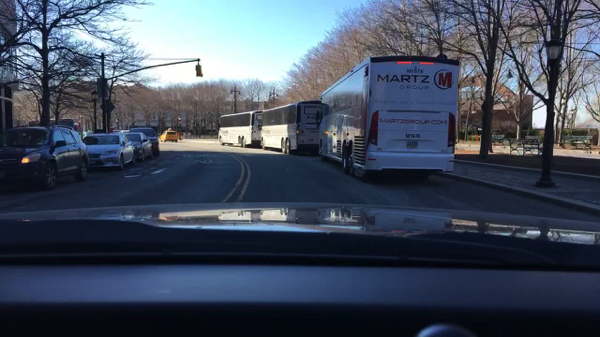bus: (315, 54, 459, 178), (258, 101, 318, 154), (217, 110, 260, 148), (28, 119, 77, 134)
car: (0, 124, 90, 190), (81, 133, 136, 173), (129, 128, 159, 156), (128, 132, 148, 161), (160, 128, 178, 142), (120, 129, 130, 134), (111, 128, 118, 134)
traffic light: (195, 65, 201, 78)
traffic sign: (99, 99, 114, 116), (96, 78, 108, 98)
